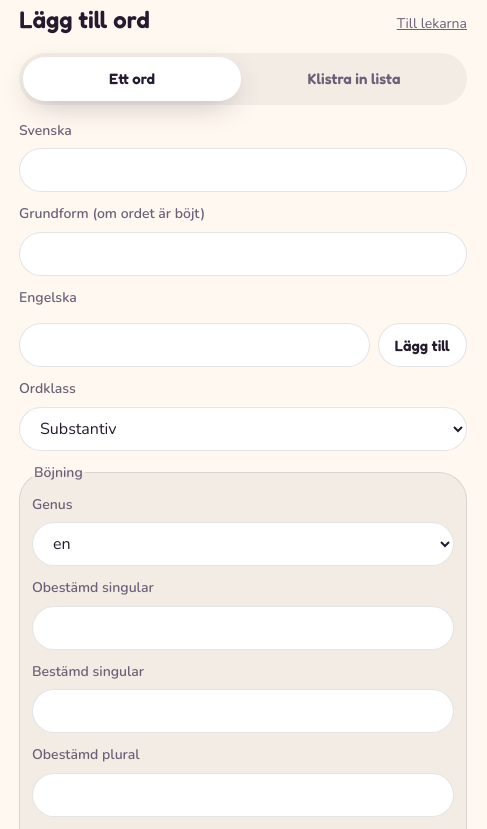
Test case: Add › saves a word and reports it
Type "dammsugare" into the field labelled "Svenska" at (243, 170), box [19,148,467,192]
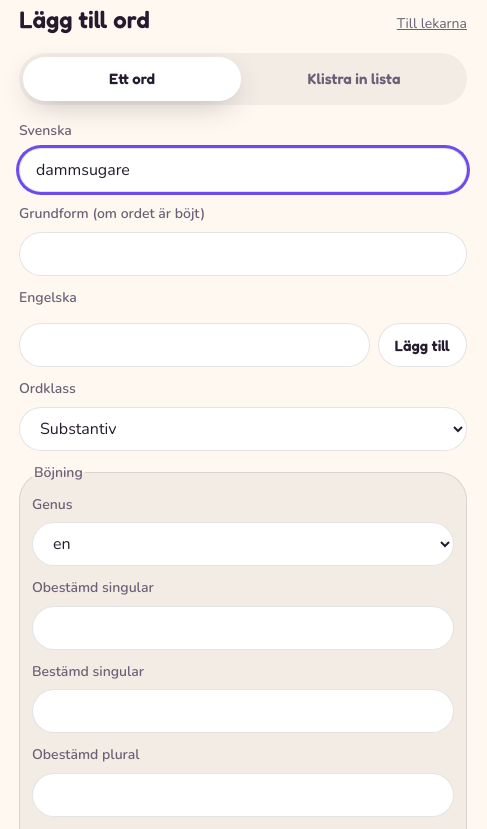
Type "thing" into the field named "Engelska" at (194, 345), box [19,323,370,367]
(page scrolled)
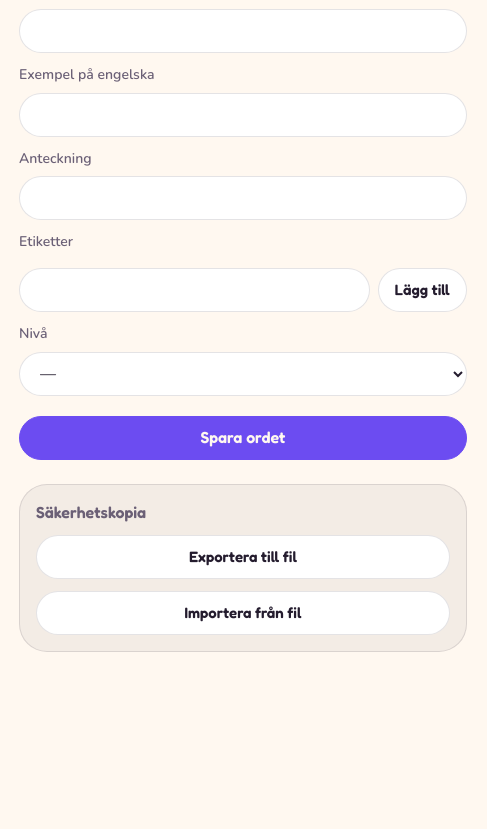
Click the button "Spara ordet" at (243, 438), box [19,416,467,460]
(page scrolled)
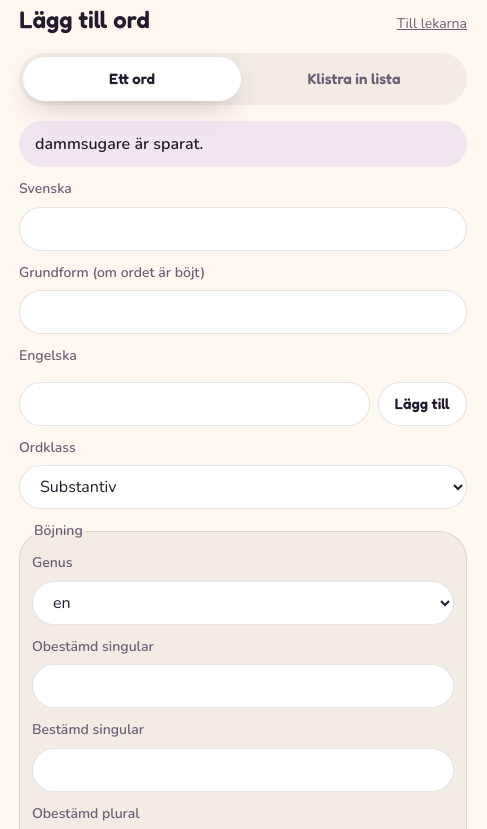
Check: the message reads "dammsugare är sparat.", box [35,133,203,155]
